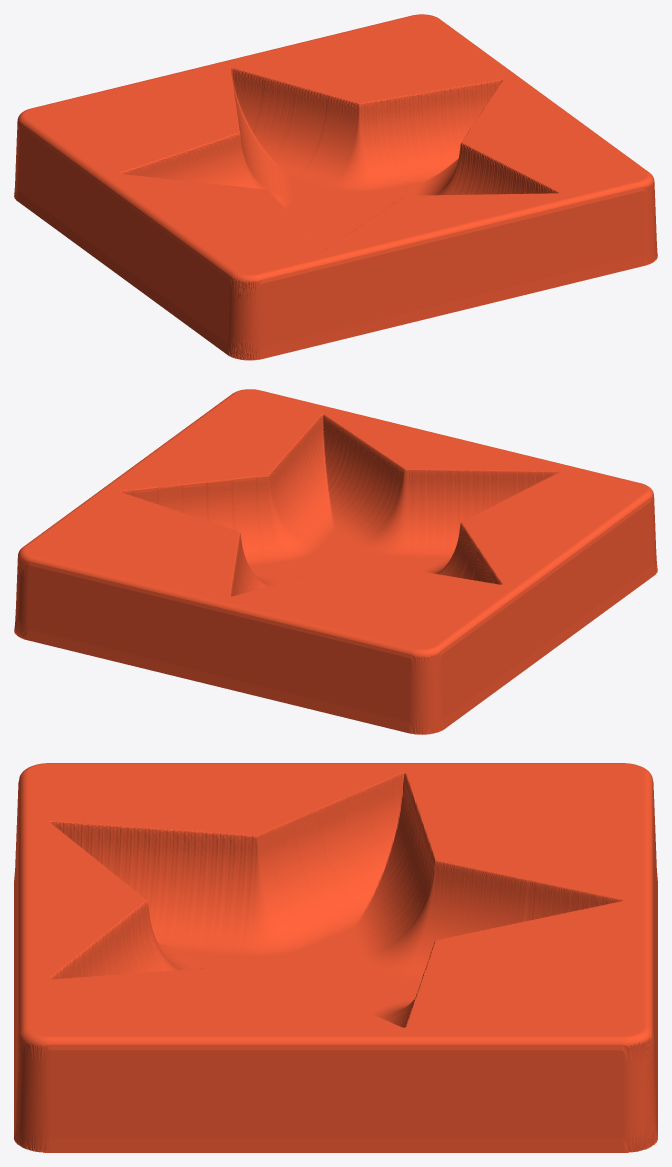
Rendered from mold.glb.
3 renders of one model, top to bottom at view 1: azimuth 30°, elevation 25°; view 2: azimuth 150°, elevation 25°; view 3: azimuth 270°, elevation 25°, orthographic. The views are drawn at different scales.
Parts seen in each view (by area): view 1: geometry_0; view 2: geometry_0; view 3: geometry_0.
Boxes of the visible parts, x1=… form: geometry_0: x1=14, y1=14, x2=657, y2=360; geometry_0: x1=14, y1=389, x2=657, y2=734; geometry_0: x1=14, y1=763, x2=657, y2=1152.
Bounding box in the file's own units: 0.1709 × 0.031 × 0.1635.
